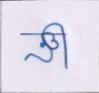i_matra: (50, 21, 72, 67)
